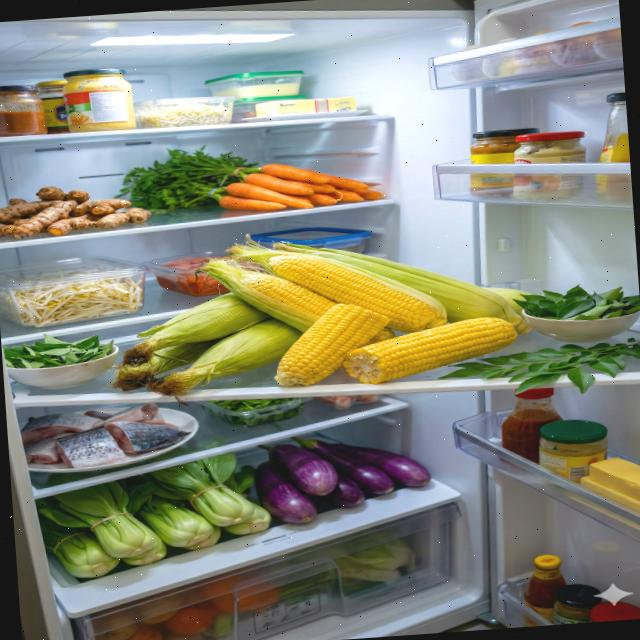bean_sprouts: (0, 262, 144, 329)
carrot: (216, 156, 384, 214)
corn: (100, 212, 542, 403)
curry_leaves: (434, 336, 640, 404), (511, 279, 640, 325), (2, 328, 116, 371)
eggplant: (250, 426, 434, 527)
fish: (18, 400, 192, 472)
pakchoy: (32, 448, 275, 581)
turmeric: (0, 178, 153, 240)
